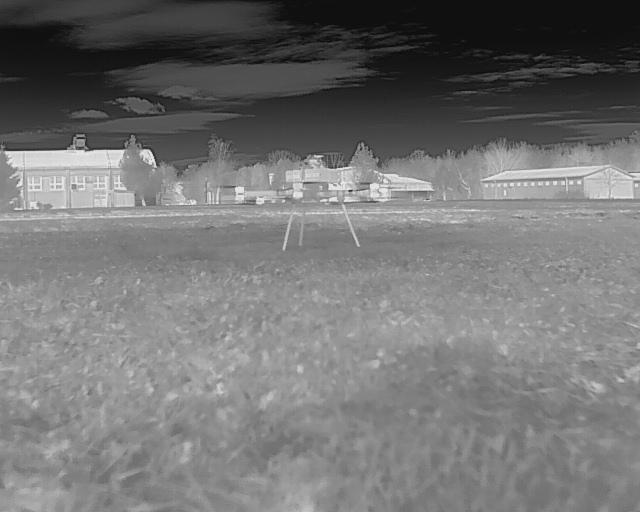drone: (206, 139, 409, 266)
